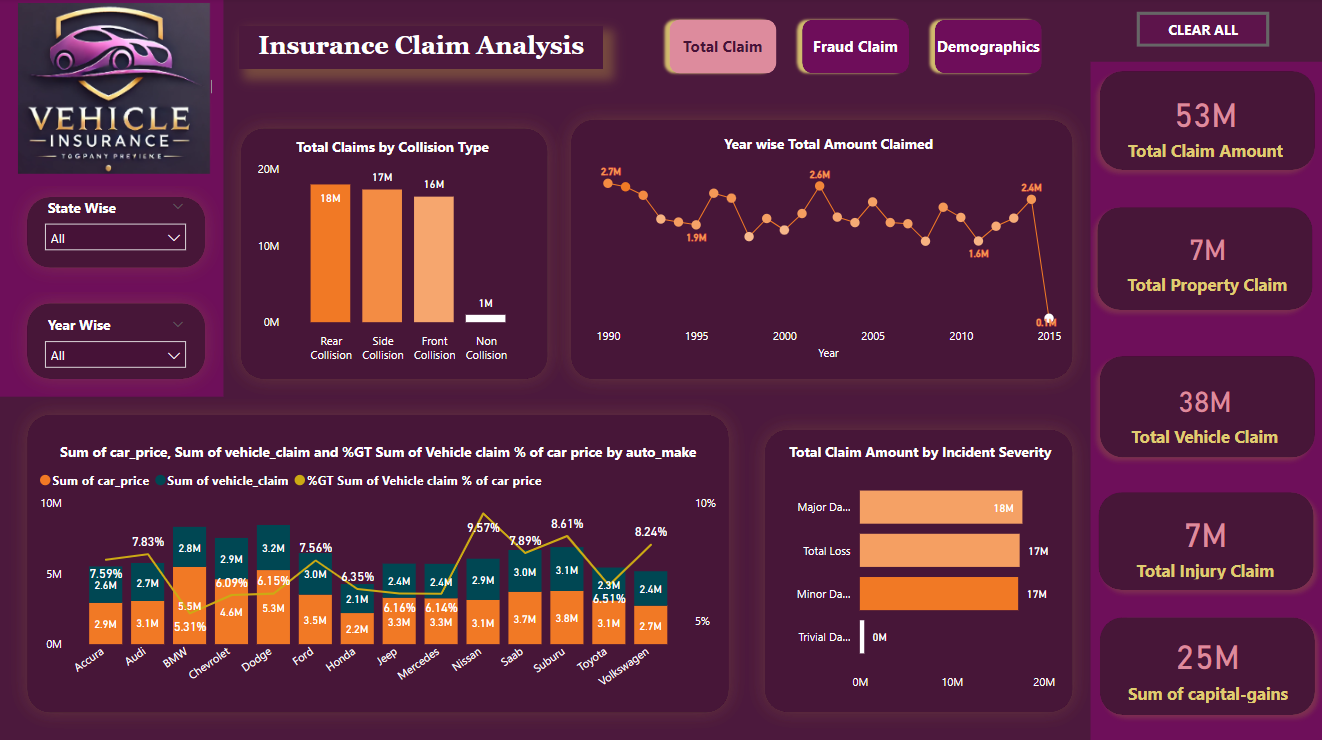

The page's visual inventory and layout, read from the dashboard file:
{"tool":"powerbi","page":{"name":"Total Claim","canvas":[1280,720],"ordinal":0},"visuals":[{"type":"shape","box":[0,0,217.5,384.6],"z":0},{"type":"shape","box":[1054.1,61.5,225.5,658.5],"z":1000},{"type":"shape","box":[535.8,99.5,518.6,285.1],"z":2000},{"type":"textbox","box":[232.8,26.5,351,42.2],"z":3000},{"type":"pageNavigator","box":[640.4,13.3,375.1,67.5],"z":4000},{"type":"shape","box":[1054.1,336.5,225.5,115.8],"z":5000},{"type":"shape","box":[1052.9,467.9,225.5,112.2],"z":6000},{"type":"shape","box":[1054.1,588.5,225.5,112.2],"z":7000},{"type":"shape","box":[1051.7,193,225.5,117],"z":8000},{"type":"shape","box":[1054.1,61.5,225.5,113.4],"z":9000},{"type":"card","fields":{"Values":["Sum(InsuranceClaims.total_claim_amount)"]},"box":[1071,82,188.1,78.4],"z":10000},{"type":"card","fields":{"Values":["Sum(InsuranceClaims.property_claim)"]},"box":[1079.4,209.8,174.9,85.6],"z":11000},{"type":"card","fields":{"Values":["Sum(InsuranceClaims.vehicle_claim)"]},"box":[1077,360.6,174.9,77.2],"z":12000},{"type":"card","fields":{"Values":["Sum(InsuranceClaims.injury_claim)"]},"box":[1073.4,487.2,183.3,78.4],"z":13000},{"type":"card","fields":{"Values":["Sum(InsuranceClaims.capital-gains)"]},"box":[1073.4,604.2,188.1,80.8],"z":14000},{"type":"shape","box":[217.5,108.1,330.6,276.5],"z":15000},{"type":"shape","box":[11.1,384.6,711.5,322],"z":16000},{"type":"shape","box":[10.9,174.9,206.2,102.5],"z":17000},{"type":"lineChart","title":"Year wise Total Amount Claimed","fields":{"Category":["DateMaster.Date.Variation.Date Hierarchy.Year"],"Y":["Sum(InsuranceClaims.total_claim_amount)"]},"box":[571.4,131.5,459.6,222.4],"z":18000},{"type":"actionButton","title":"CLEAR ALL","box":[1098.7,13.3,127.8,33.8],"z":19000},{"type":"lineStackedColumnComboChart","fields":{"Category":["InsuranceClaims.auto_make"],"Y":["Sum(InsuranceClaims.car_price)","Sum(InsuranceClaims.vehicle_claim)"],"Y2":["Sum(InsuranceClaims.Vehicle claim % of car price)"]},"box":[34.4,427.7,663.6,249.5],"z":20000},{"type":"columnChart","title":"Total Claims by Collision Type","fields":{"Category":["InsuranceClaims.collision_type"],"Y":["Sum(InsuranceClaims.total_claim_amount)"]},"box":[244.5,133.9,271.6,226.1],"z":21000},{"type":"shape","box":[722.6,399.4,331.8,307.2],"z":22000},{"type":"clusteredBarChart","title":"Total Claim Amount by Incident Severity","fields":{"Category":["InsuranceClaims.incident_severity"],"Y":["Sum(InsuranceClaims.total_claim_amount)"]},"box":[747.2,427.7,283.9,249.5],"z":23000},{"type":"slicer","fields":{"Values":["InsuranceClaims.incident_state"]},"box":[35,188.1,156.8,59.1],"z":24000},{"type":"shape","box":[10.9,277.4,206.2,107.3],"z":25000},{"type":"slicer","fields":{"Values":["DateMaster.Date.Variation.Date Hierarchy.Year"]},"box":[35,301.5,156.8,59.1],"z":26000},{"type":"image","box":[12.1,0,201.4,174.9],"z":27000}]}

Visuals, with their boxes in screenshot pixels (x1, y1, x2, y2), scaled from the page's 1280x720 canvas onto the 1322x740 screenshot:
shape: 0,0,225,395
shape: 1089,63,1321,739
shape: 553,102,1089,395
textbox: 240,27,603,71
pageNavigator: 661,14,1049,83
shape: 1089,346,1321,465
shape: 1087,481,1320,596
shape: 1089,605,1321,720
shape: 1086,198,1319,319
shape: 1089,63,1321,180
card - Sum(InsuranceClaims.total_claim_amount): 1106,84,1300,165
card - Sum(InsuranceClaims.property_claim): 1115,216,1295,304
card - Sum(InsuranceClaims.vehicle_claim): 1112,371,1293,450
card - Sum(InsuranceClaims.injury_claim): 1109,501,1298,581
card - Sum(InsuranceClaims.capital-gains): 1109,621,1303,704
shape: 225,111,566,395
shape: 11,395,746,726
shape: 11,180,224,285
"Year wise Total Amount Claimed" lineChart: 590,135,1065,364
"CLEAR ALL" actionButton: 1135,14,1267,48
lineStackedColumnComboChart - InsuranceClaims.auto_make x Sum(InsuranceClaims.car_price): 36,440,721,696
"Total Claims by Collision Type" columnChart: 253,138,533,370
shape: 746,410,1089,726
"Total Claim Amount by Incident Severity" clusteredBarChart: 772,440,1065,696
slicer - InsuranceClaims.incident_state: 36,193,198,254
shape: 11,285,224,395
slicer - DateMaster.Date.Variation.Date Hierarchy.Year: 36,310,198,371
image: 12,0,221,180
